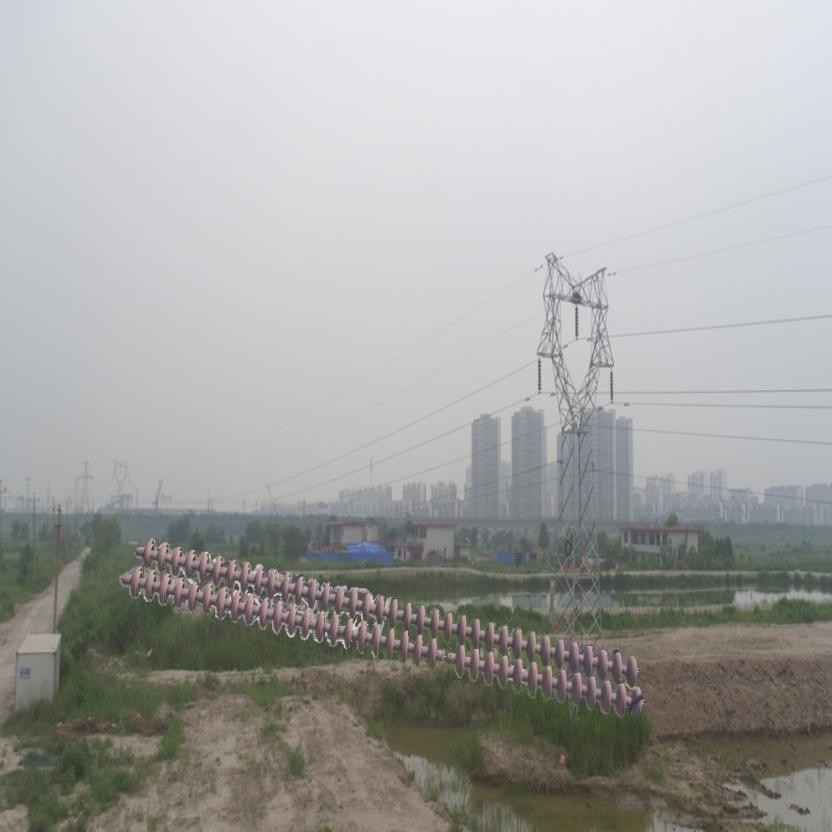defect: (421, 636, 470, 681)
